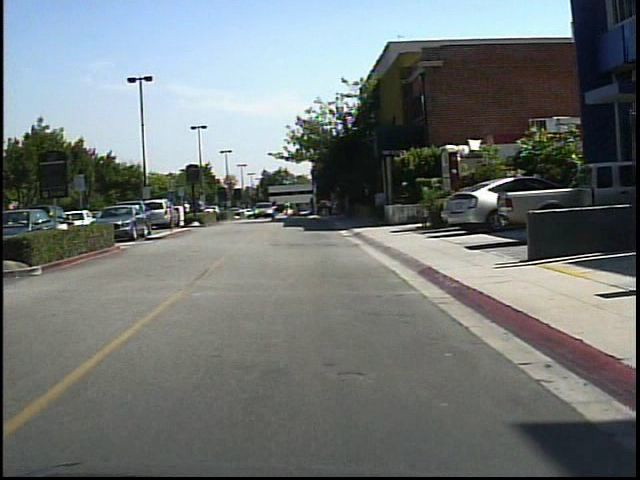person: (178, 194, 194, 225), (279, 196, 294, 223)
